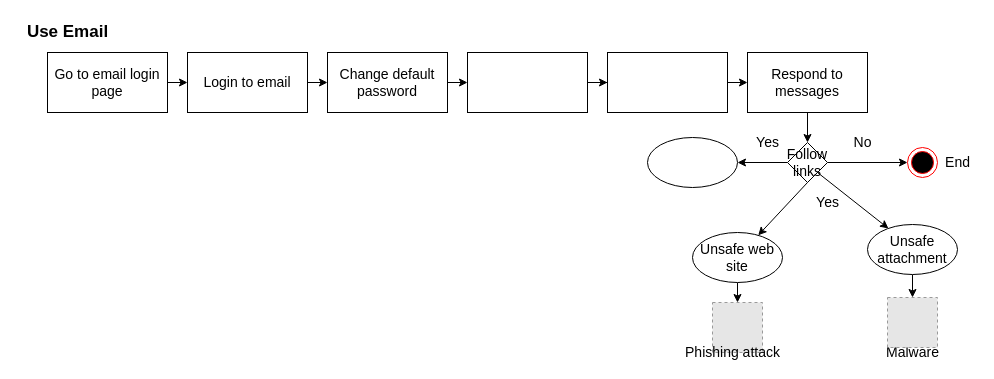
The diagram is 994 pixels wide and 379 high, and some of its shapes have lost their labels. Grey dashed boxes stand in for pictures. Here are the shapes that lost their labels. From the top down, the centre of each, then its label:
At (527,82): "Open inbox".
At (667,82): "Compose message and save".
At (692,162): "Safe web site".
